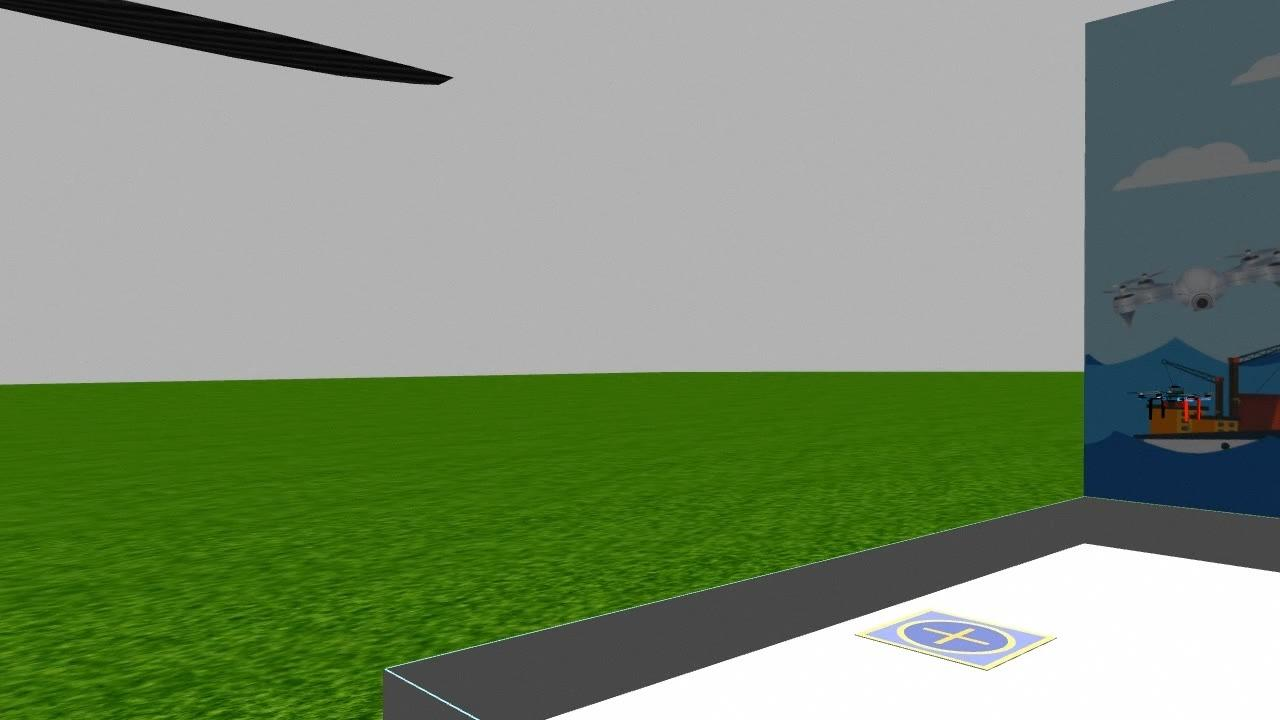UAV: (1128, 368, 1220, 433)
